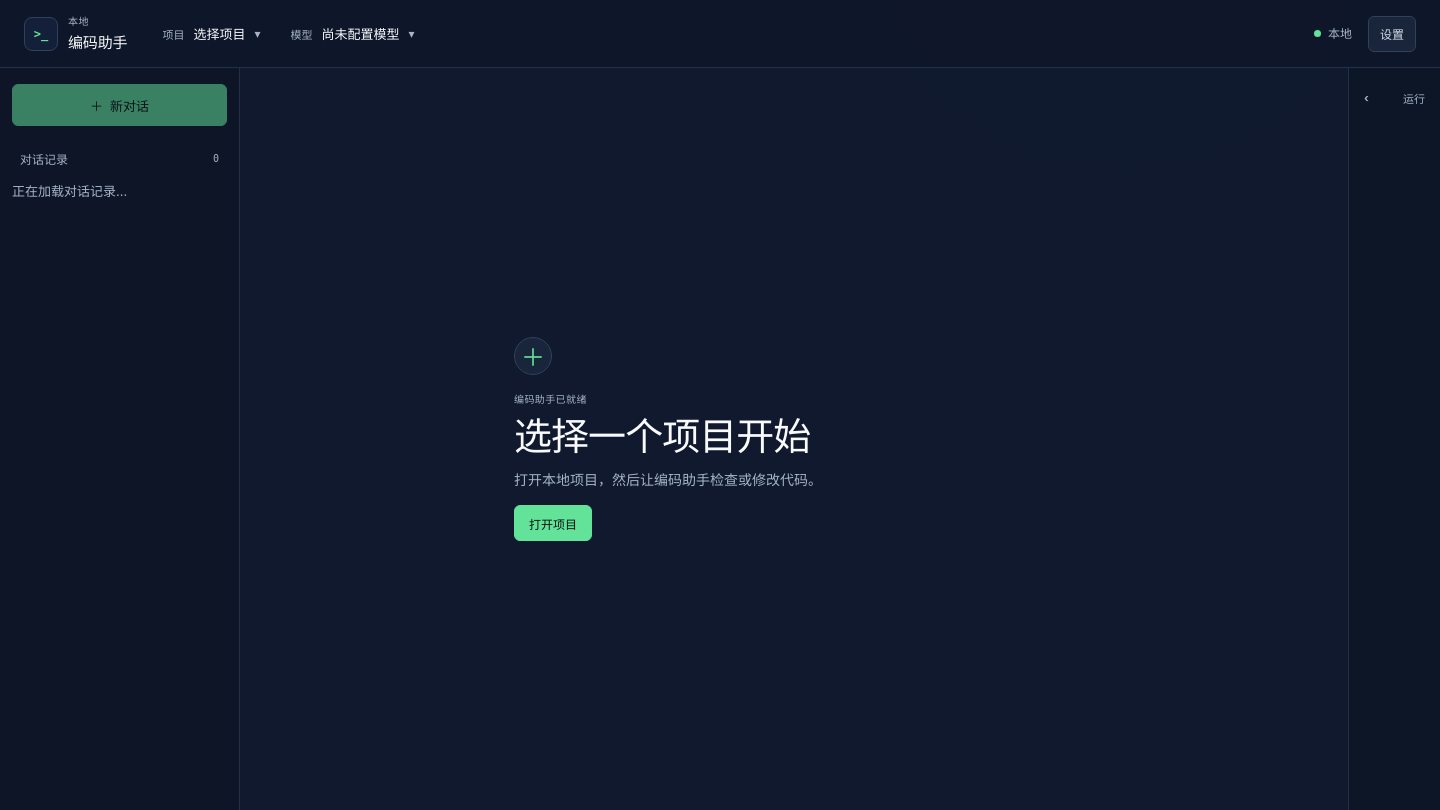
it: keeps workspace errors visible with a reload action
Step 1. Click the button "项目 选择项目 ▾" → (211, 34), box 151,12 -> 271,54
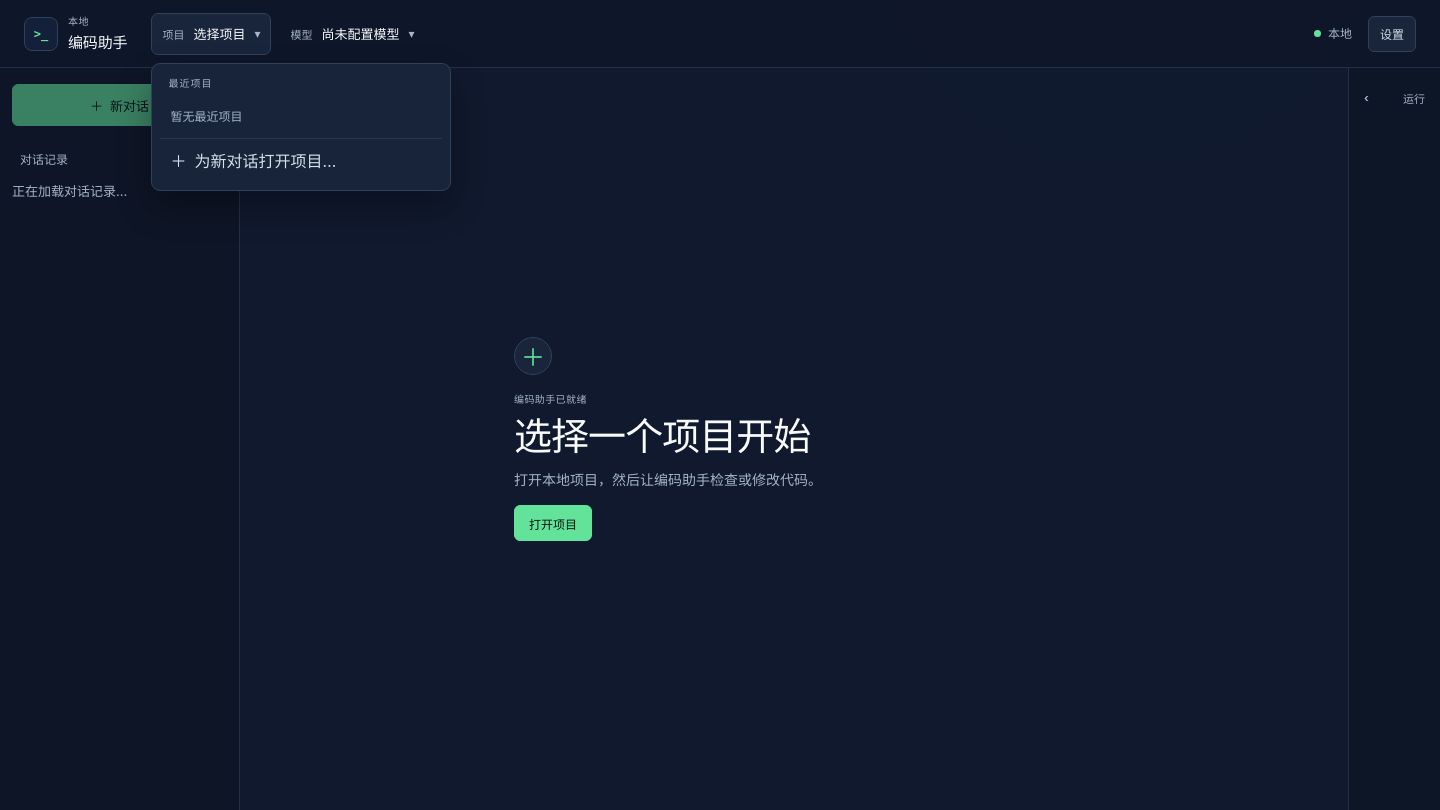
Step 2. Click the menu item "＋ 为新对话打开项目…" → (301, 160), box 160,138 -> 442,182
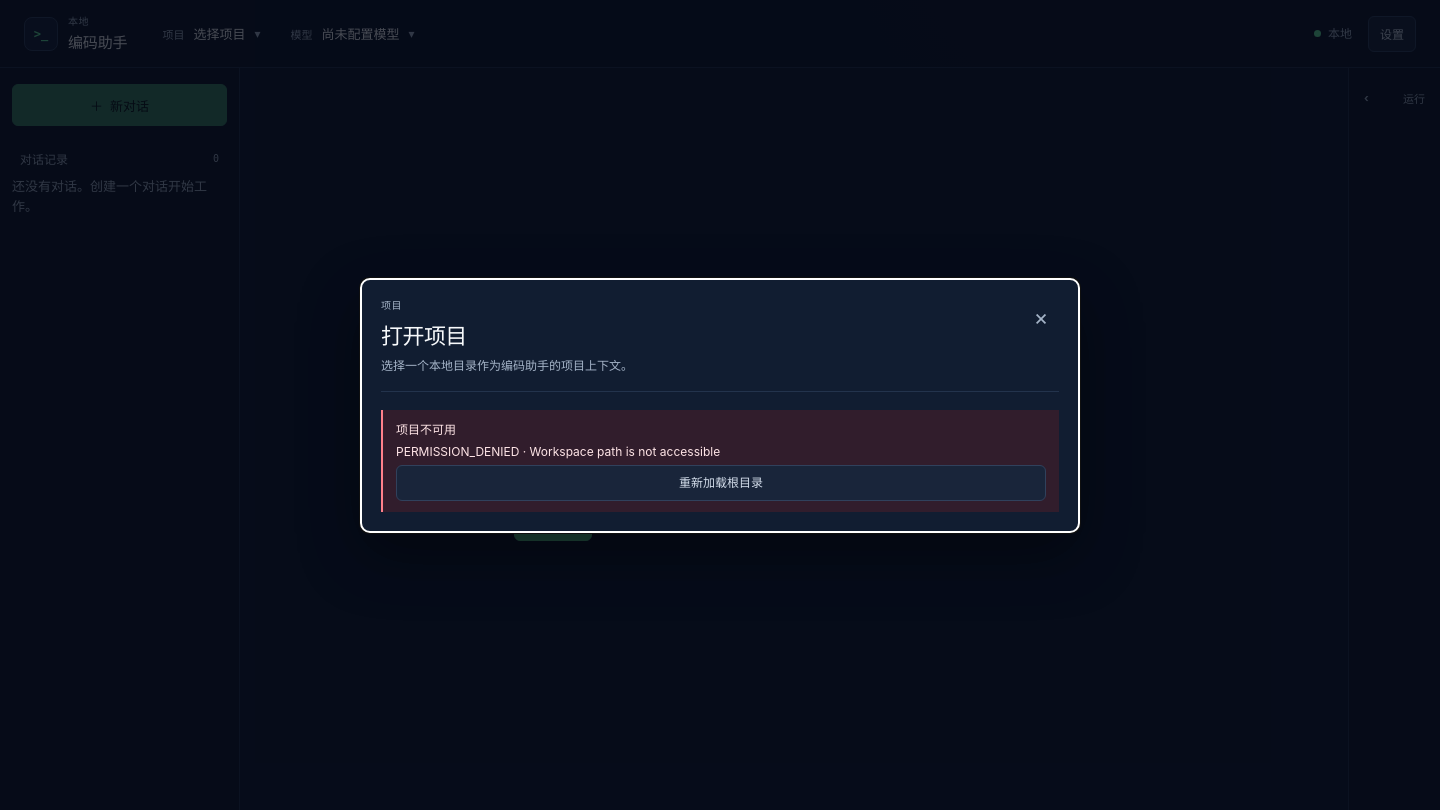
Check: the text "项目不可用" is shown, box 396,422 -> 456,436
Check: the text "PERMISSION_DENIED · Workspace path is not accessible" is shown, box 396,444 -> 720,458
Check: the button "重新加载根目录" is shown, box 396,464 -> 1046,500
